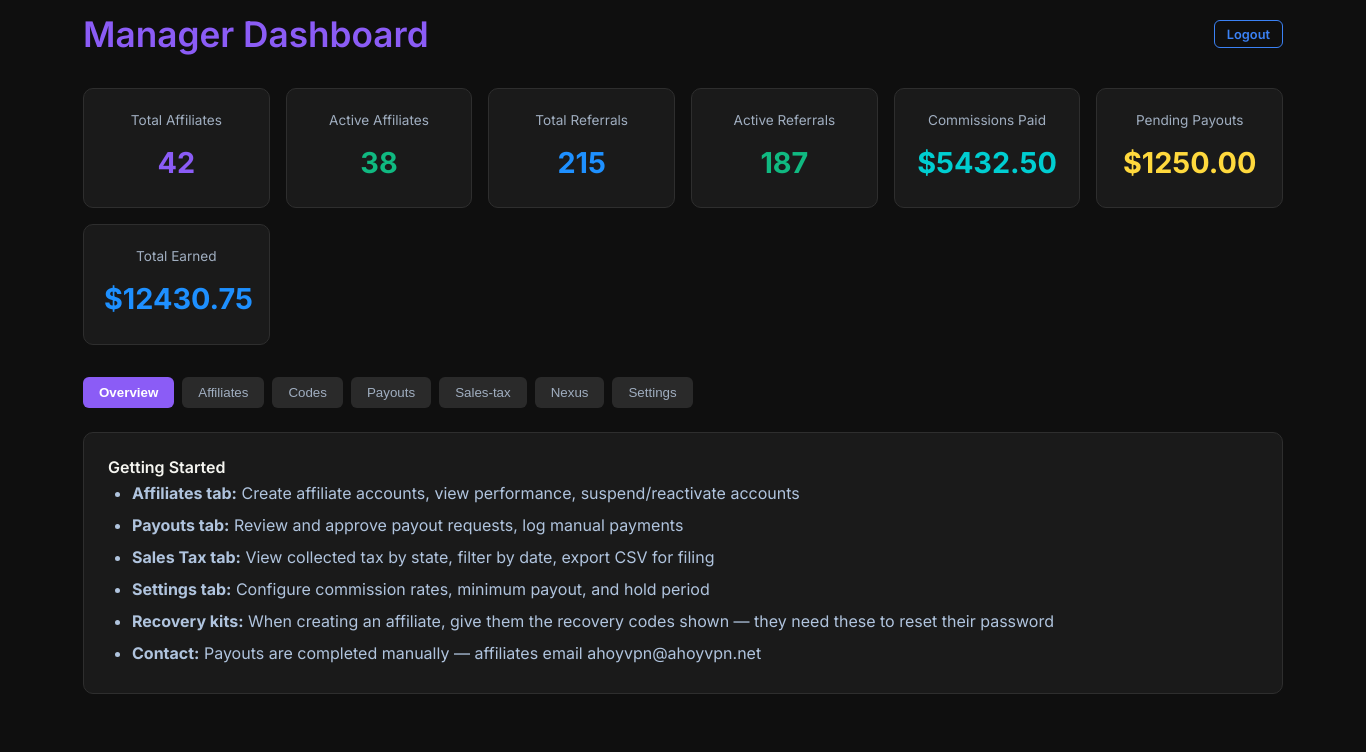
Test: AhoyManDashboard › switches to Settings tab when Settings button is clicked
Check: the heading "Manager Dashboard" is shown, box [83,12,429,56]
Click the button "Settings".
click(653, 392)  # box [612,377,693,408]
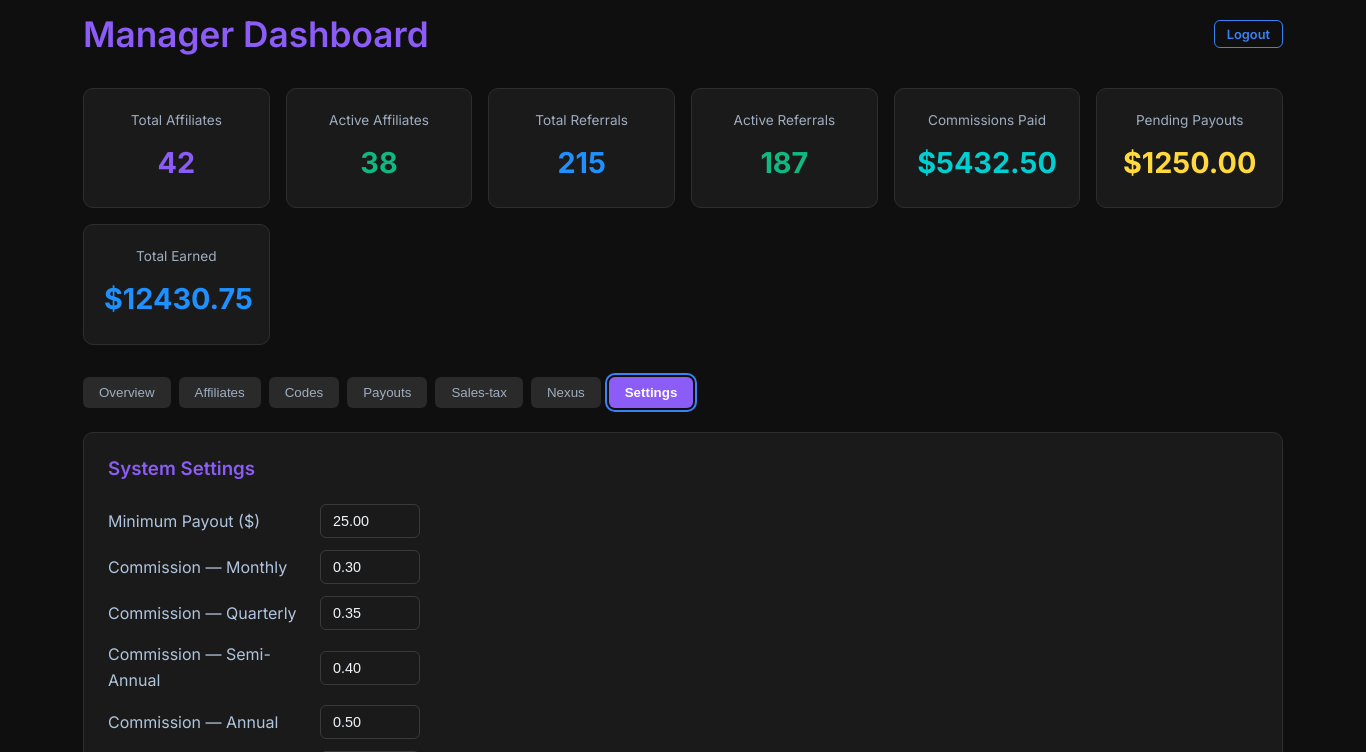
Check: the heading "System Settings" is shown, box [108,457,255,480]
